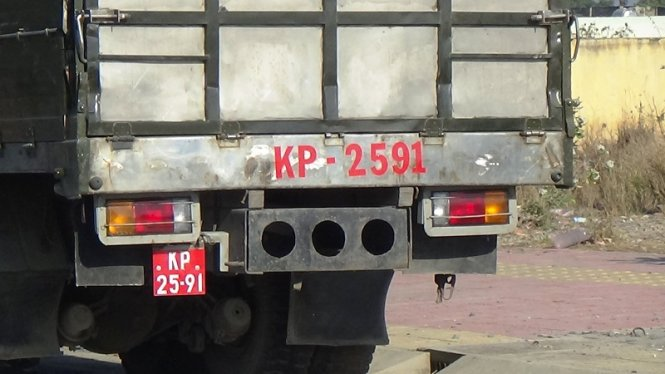plate: (148, 245, 208, 298)
